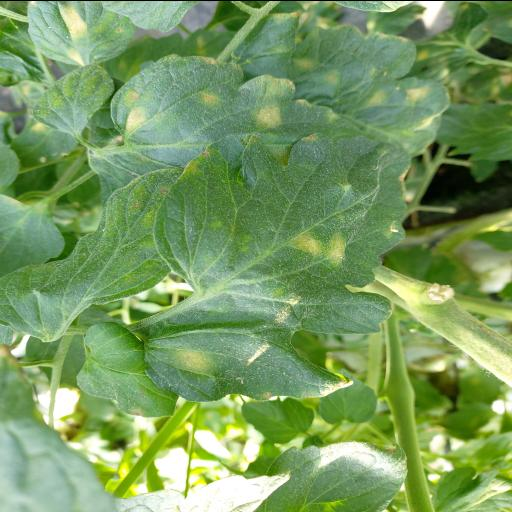Leaf Mold: (138, 130, 412, 400)
